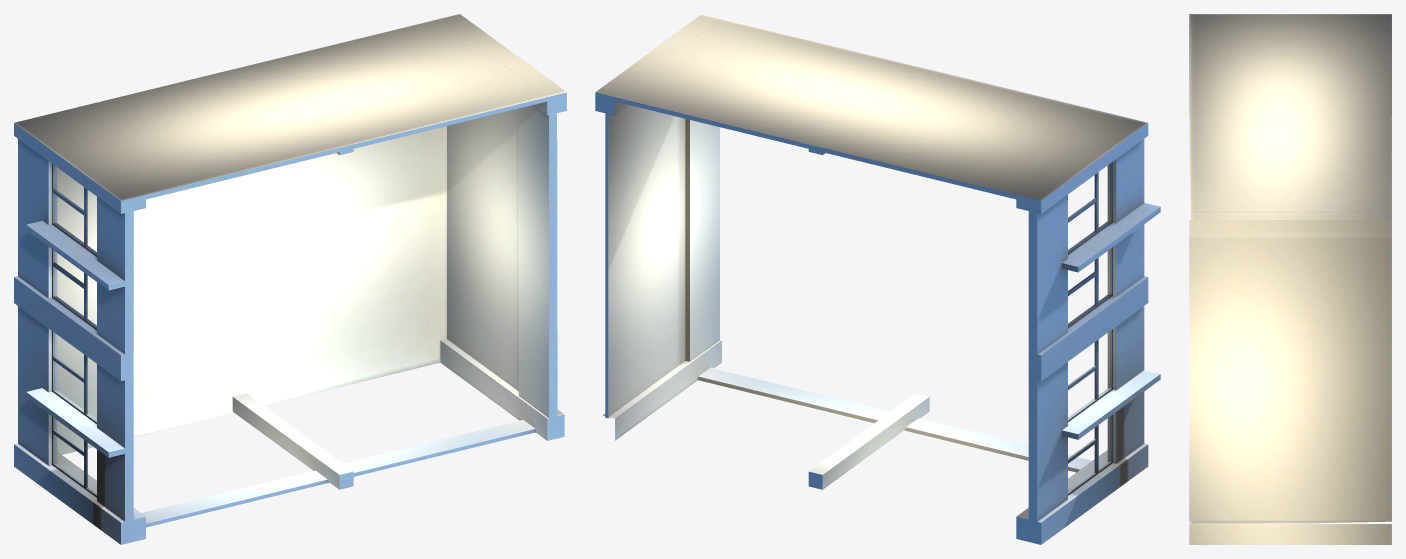
3 views of the same model, side by side, from view 1: azimuth 30°, elevation 25°; view 2: azimuth 150°, elevation 25°; view 3: azimuth 270°, elevation 25° (orthographic). The views are drawn at different scales.
Parts seen in each view (by area): view 1: hc_1floor_room008_0; view 2: hc_1floor_room008_0; view 3: hc_1floor_room008_0.
Part boxes in pixels (box(x1,y1,x2,y2)): hc_1floor_room008_0: box(14, 14, 566, 544); hc_1floor_room008_0: box(595, 14, 1160, 544); hc_1floor_room008_0: box(1189, 14, 1391, 544).
Size of the model in its own units: 1.03 by 0.74 by 0.4174.
Materials: 1 (1 with a texture image).
